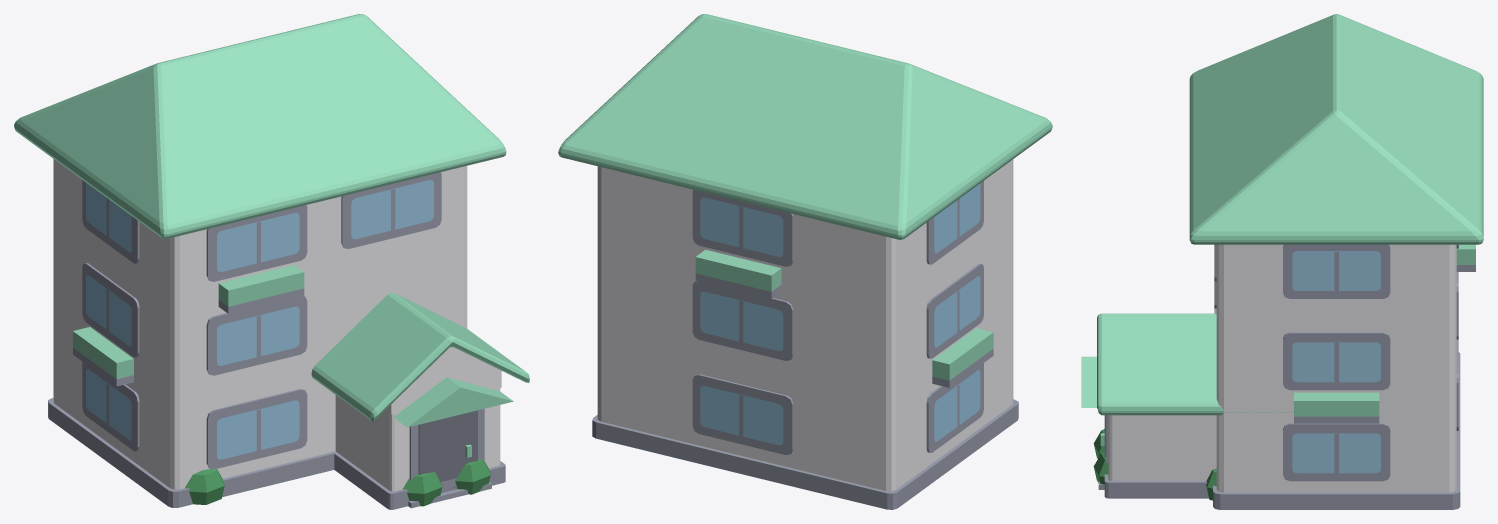
Rendered from house-1x1-3f-mansard-a.glb.
3 views of the same model, side by side, from view 1: azimuth 30°, elevation 25°; view 2: azimuth 150°, elevation 25°; view 3: azimuth 270°, elevation 25° (orthographic). The views are drawn at different scales.
Parts seen in each view (by area): view 1: house-1x1-3f-mansard-a; view 2: house-1x1-3f-mansard-a; view 3: house-1x1-3f-mansard-a.
Part boxes in pixels (bbox=[...]): house-1x1-3f-mansard-a: bbox=[14, 14, 529, 509]; house-1x1-3f-mansard-a: bbox=[558, 14, 1052, 509]; house-1x1-3f-mansard-a: bbox=[1081, 14, 1483, 509].
Bounding box in the file's own units: 1 × 1.07 × 1.04.
Materials: 1 (1 with a texture image).
